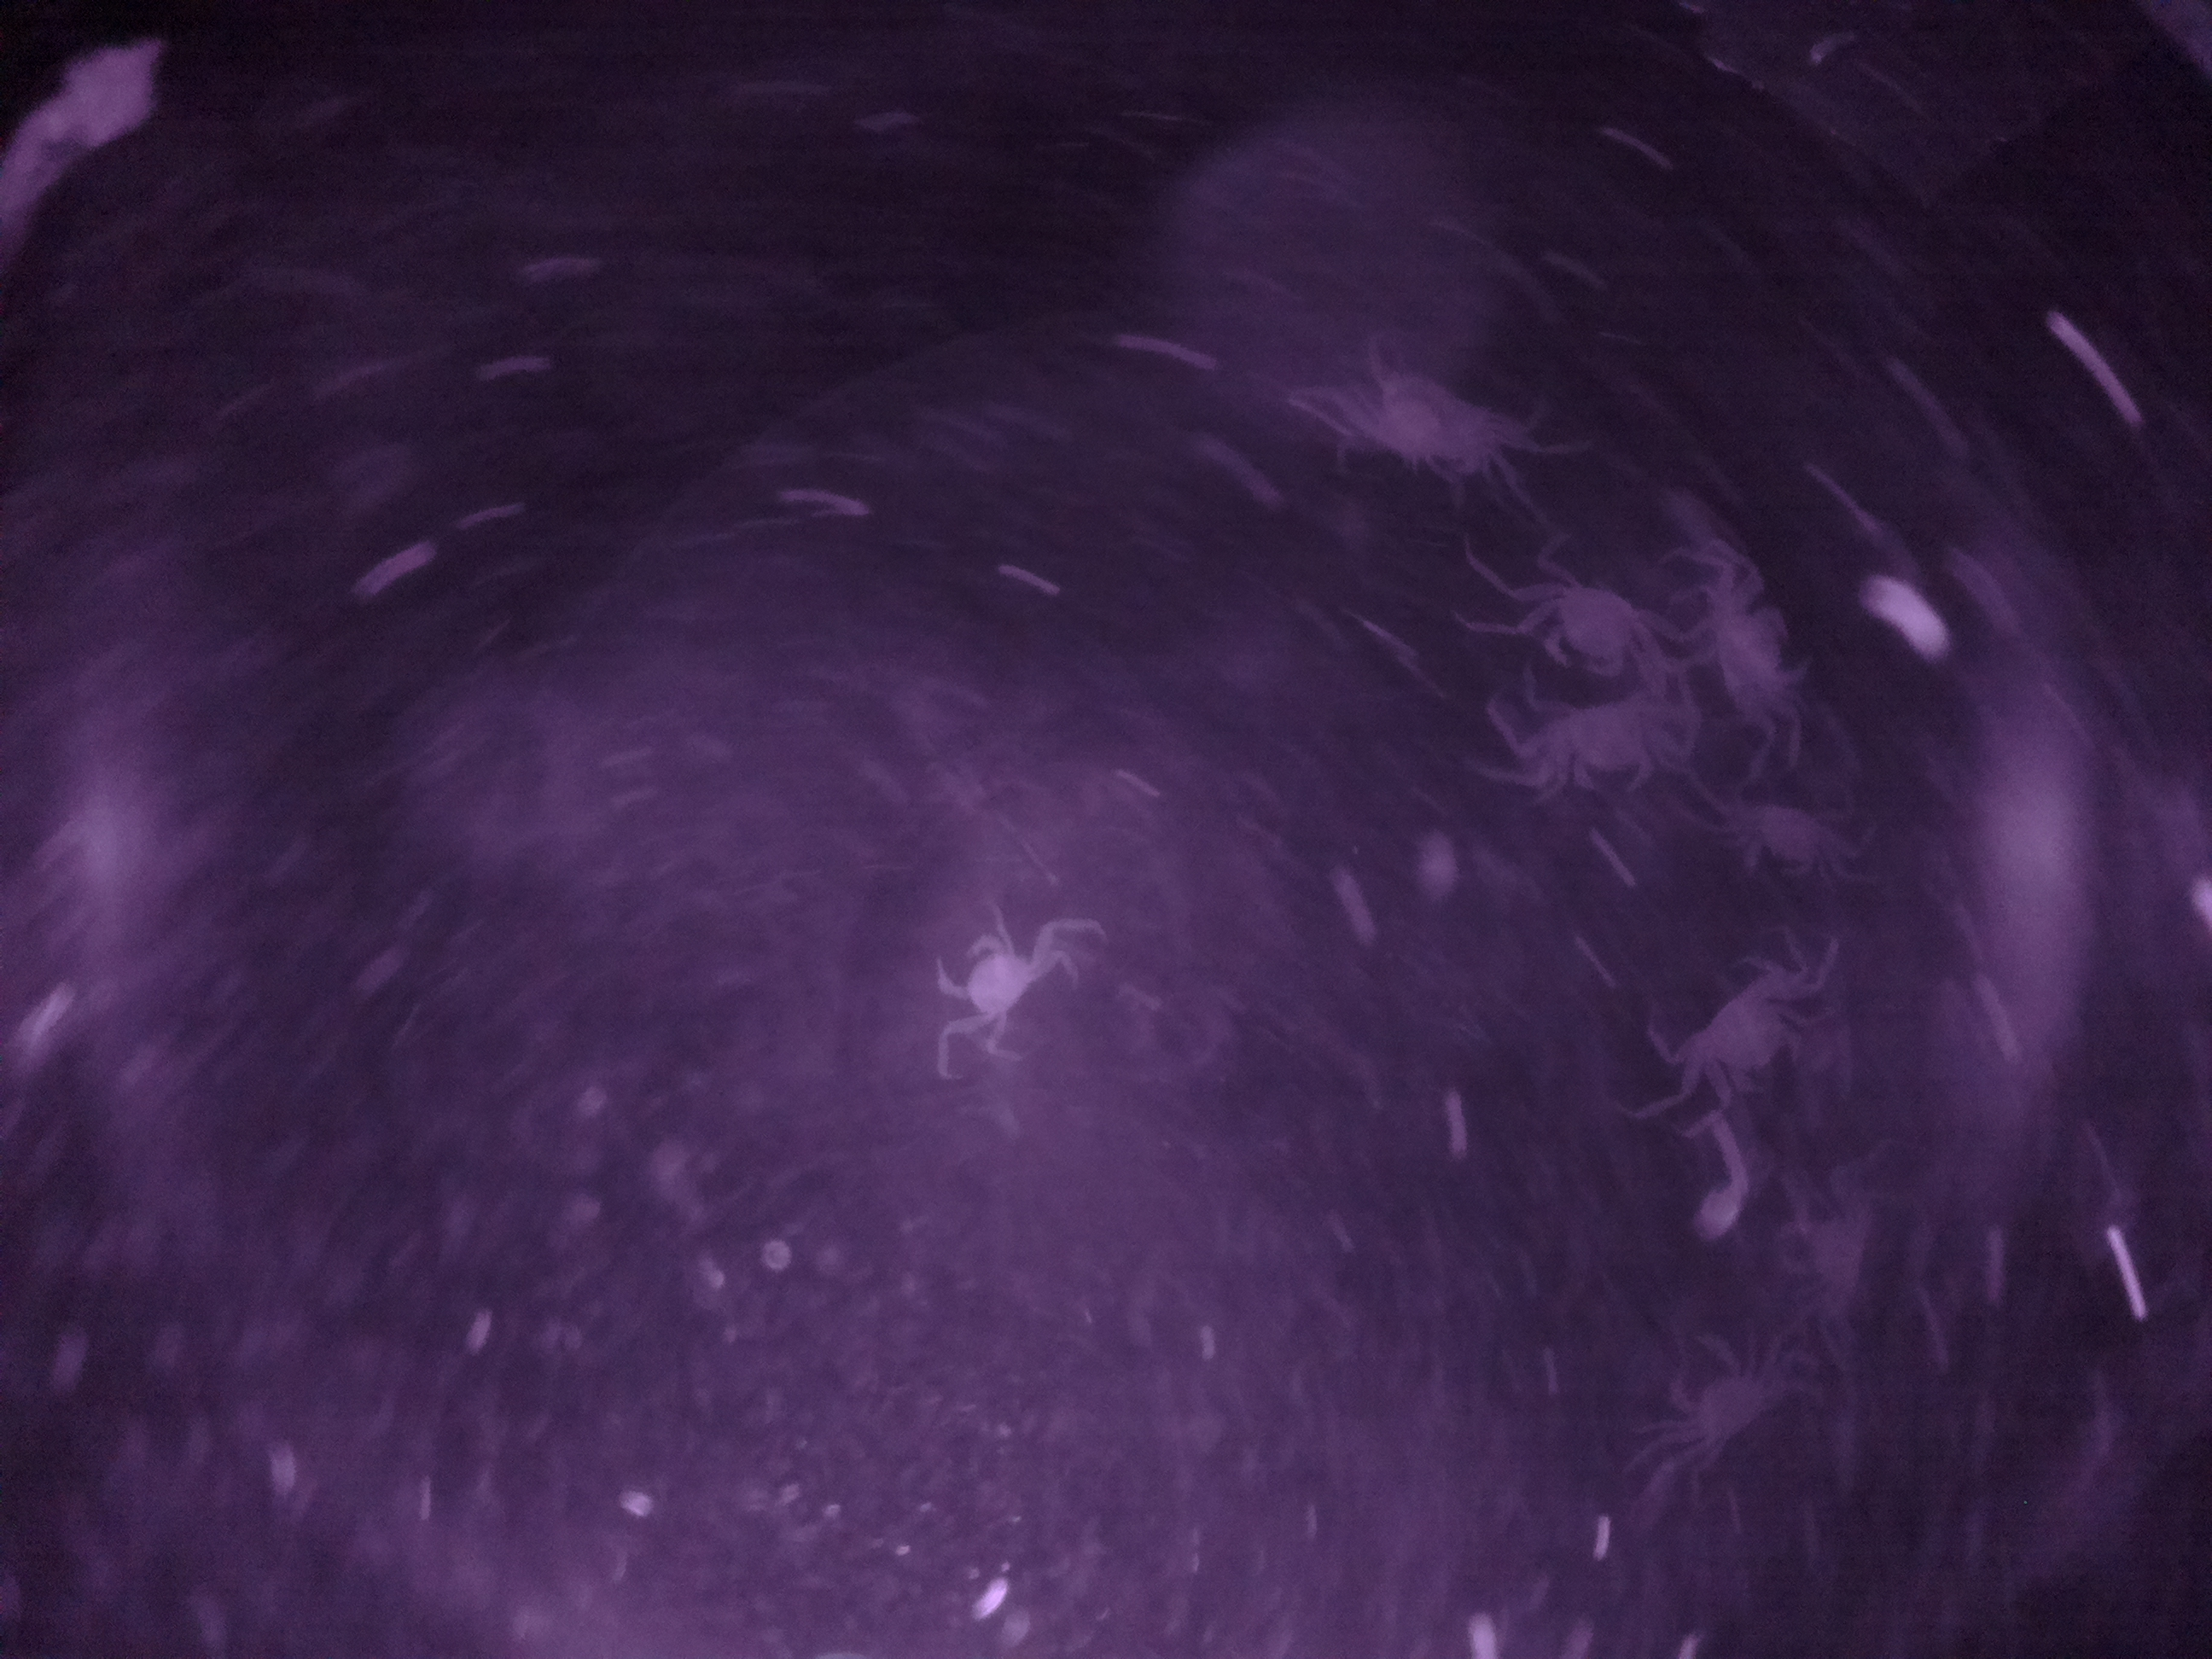Crab: (913, 896, 1104, 1077), (1669, 950, 1827, 1121), (1508, 676, 1696, 814)
